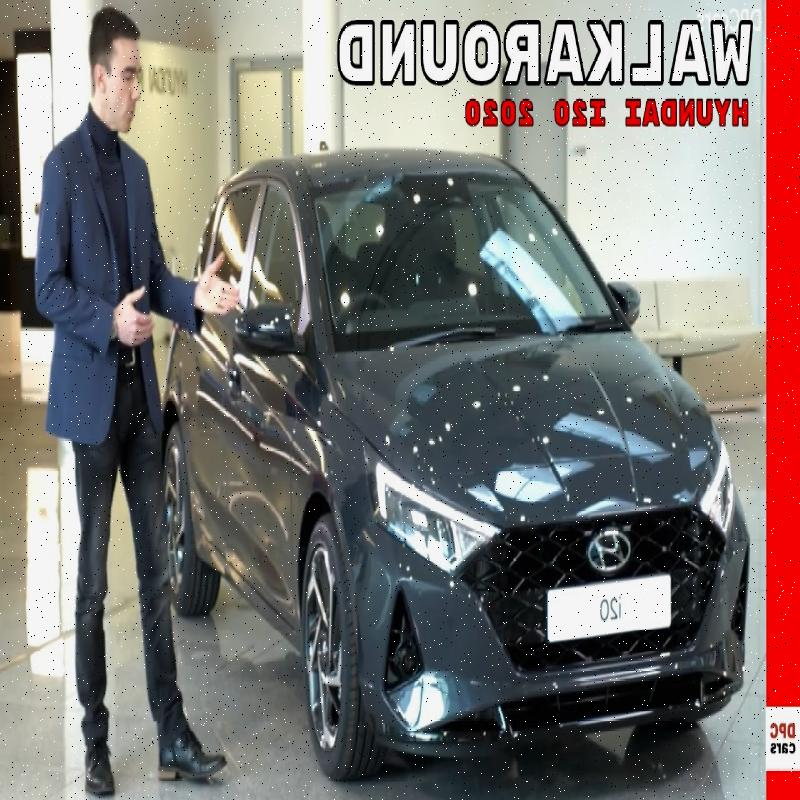car: (155, 105, 746, 716)
